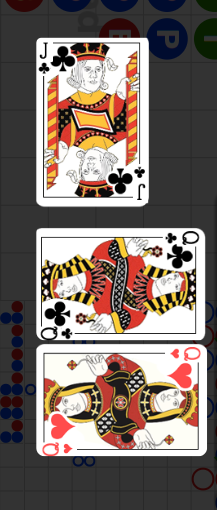9H: (169, 346, 202, 361)
JC: (133, 165, 148, 202), (38, 41, 52, 76)
QC: (36, 295, 83, 339), (157, 228, 203, 272)
